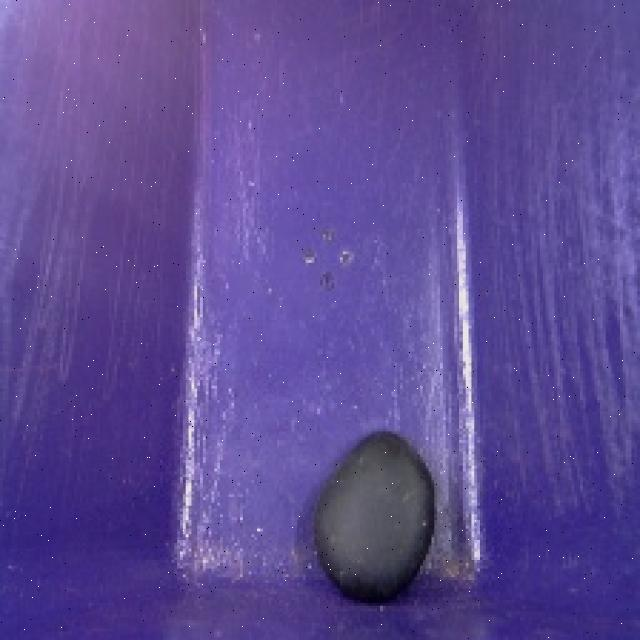cobbles: (306, 422, 444, 611)
